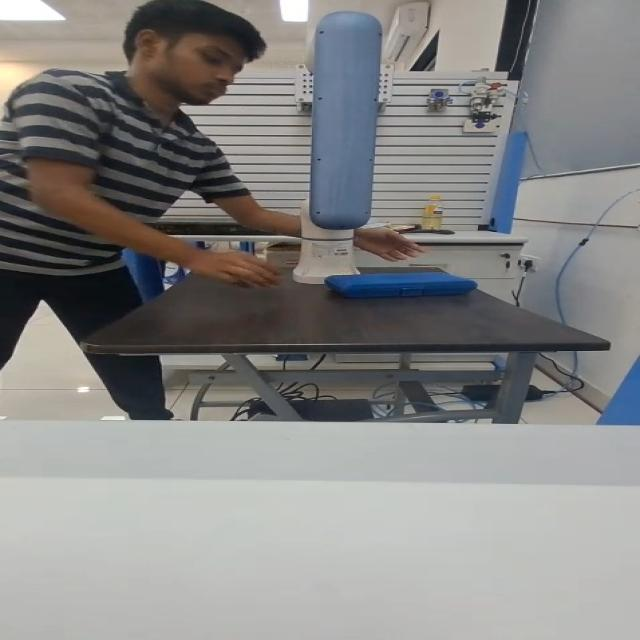top-surface: (341, 273, 466, 284)
